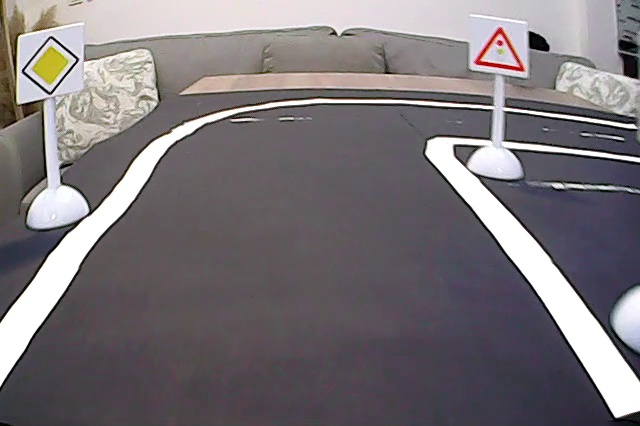red light: (472, 18, 527, 76)
